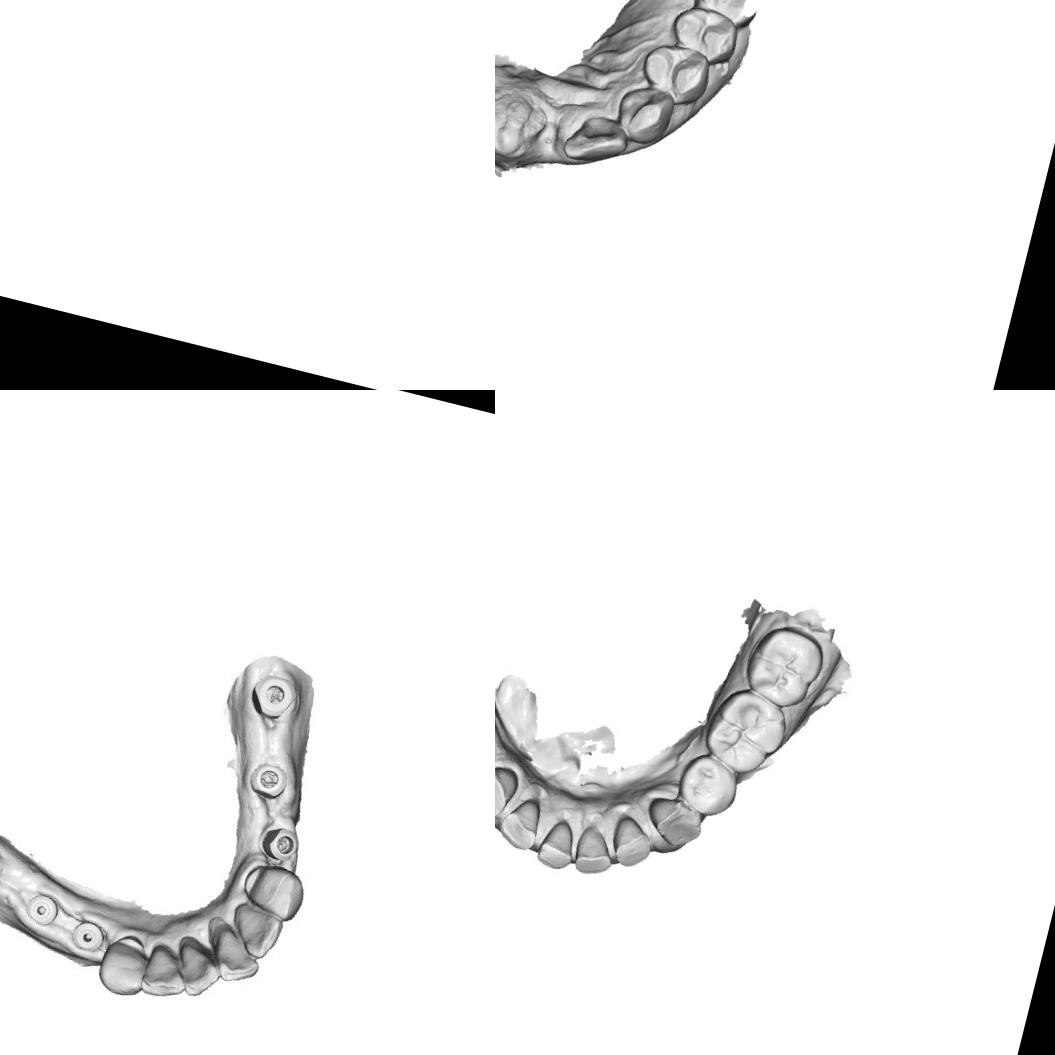canine: (606, 79, 677, 151), (638, 790, 710, 855), (238, 858, 310, 922), (92, 932, 154, 1002), (495, 755, 522, 826)
implant: (244, 670, 304, 726), (244, 757, 293, 804), (258, 822, 303, 865), (67, 916, 110, 957), (22, 888, 62, 929)
incisor: (558, 108, 635, 173), (204, 922, 268, 989), (227, 902, 287, 962), (604, 810, 660, 872), (495, 788, 547, 853), (138, 943, 194, 1003), (172, 941, 226, 1002), (531, 813, 584, 874), (570, 820, 622, 880)
molar: (694, 679, 796, 782), (736, 616, 830, 714), (678, 0, 771, 32)
premolar: (634, 35, 722, 111), (669, 746, 744, 822), (660, 0, 744, 66)
